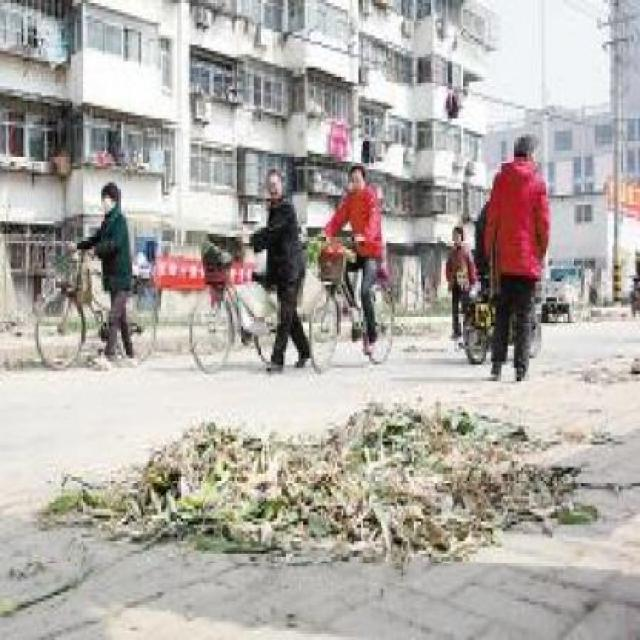garbage: (34, 397, 588, 592), (574, 340, 638, 411)
